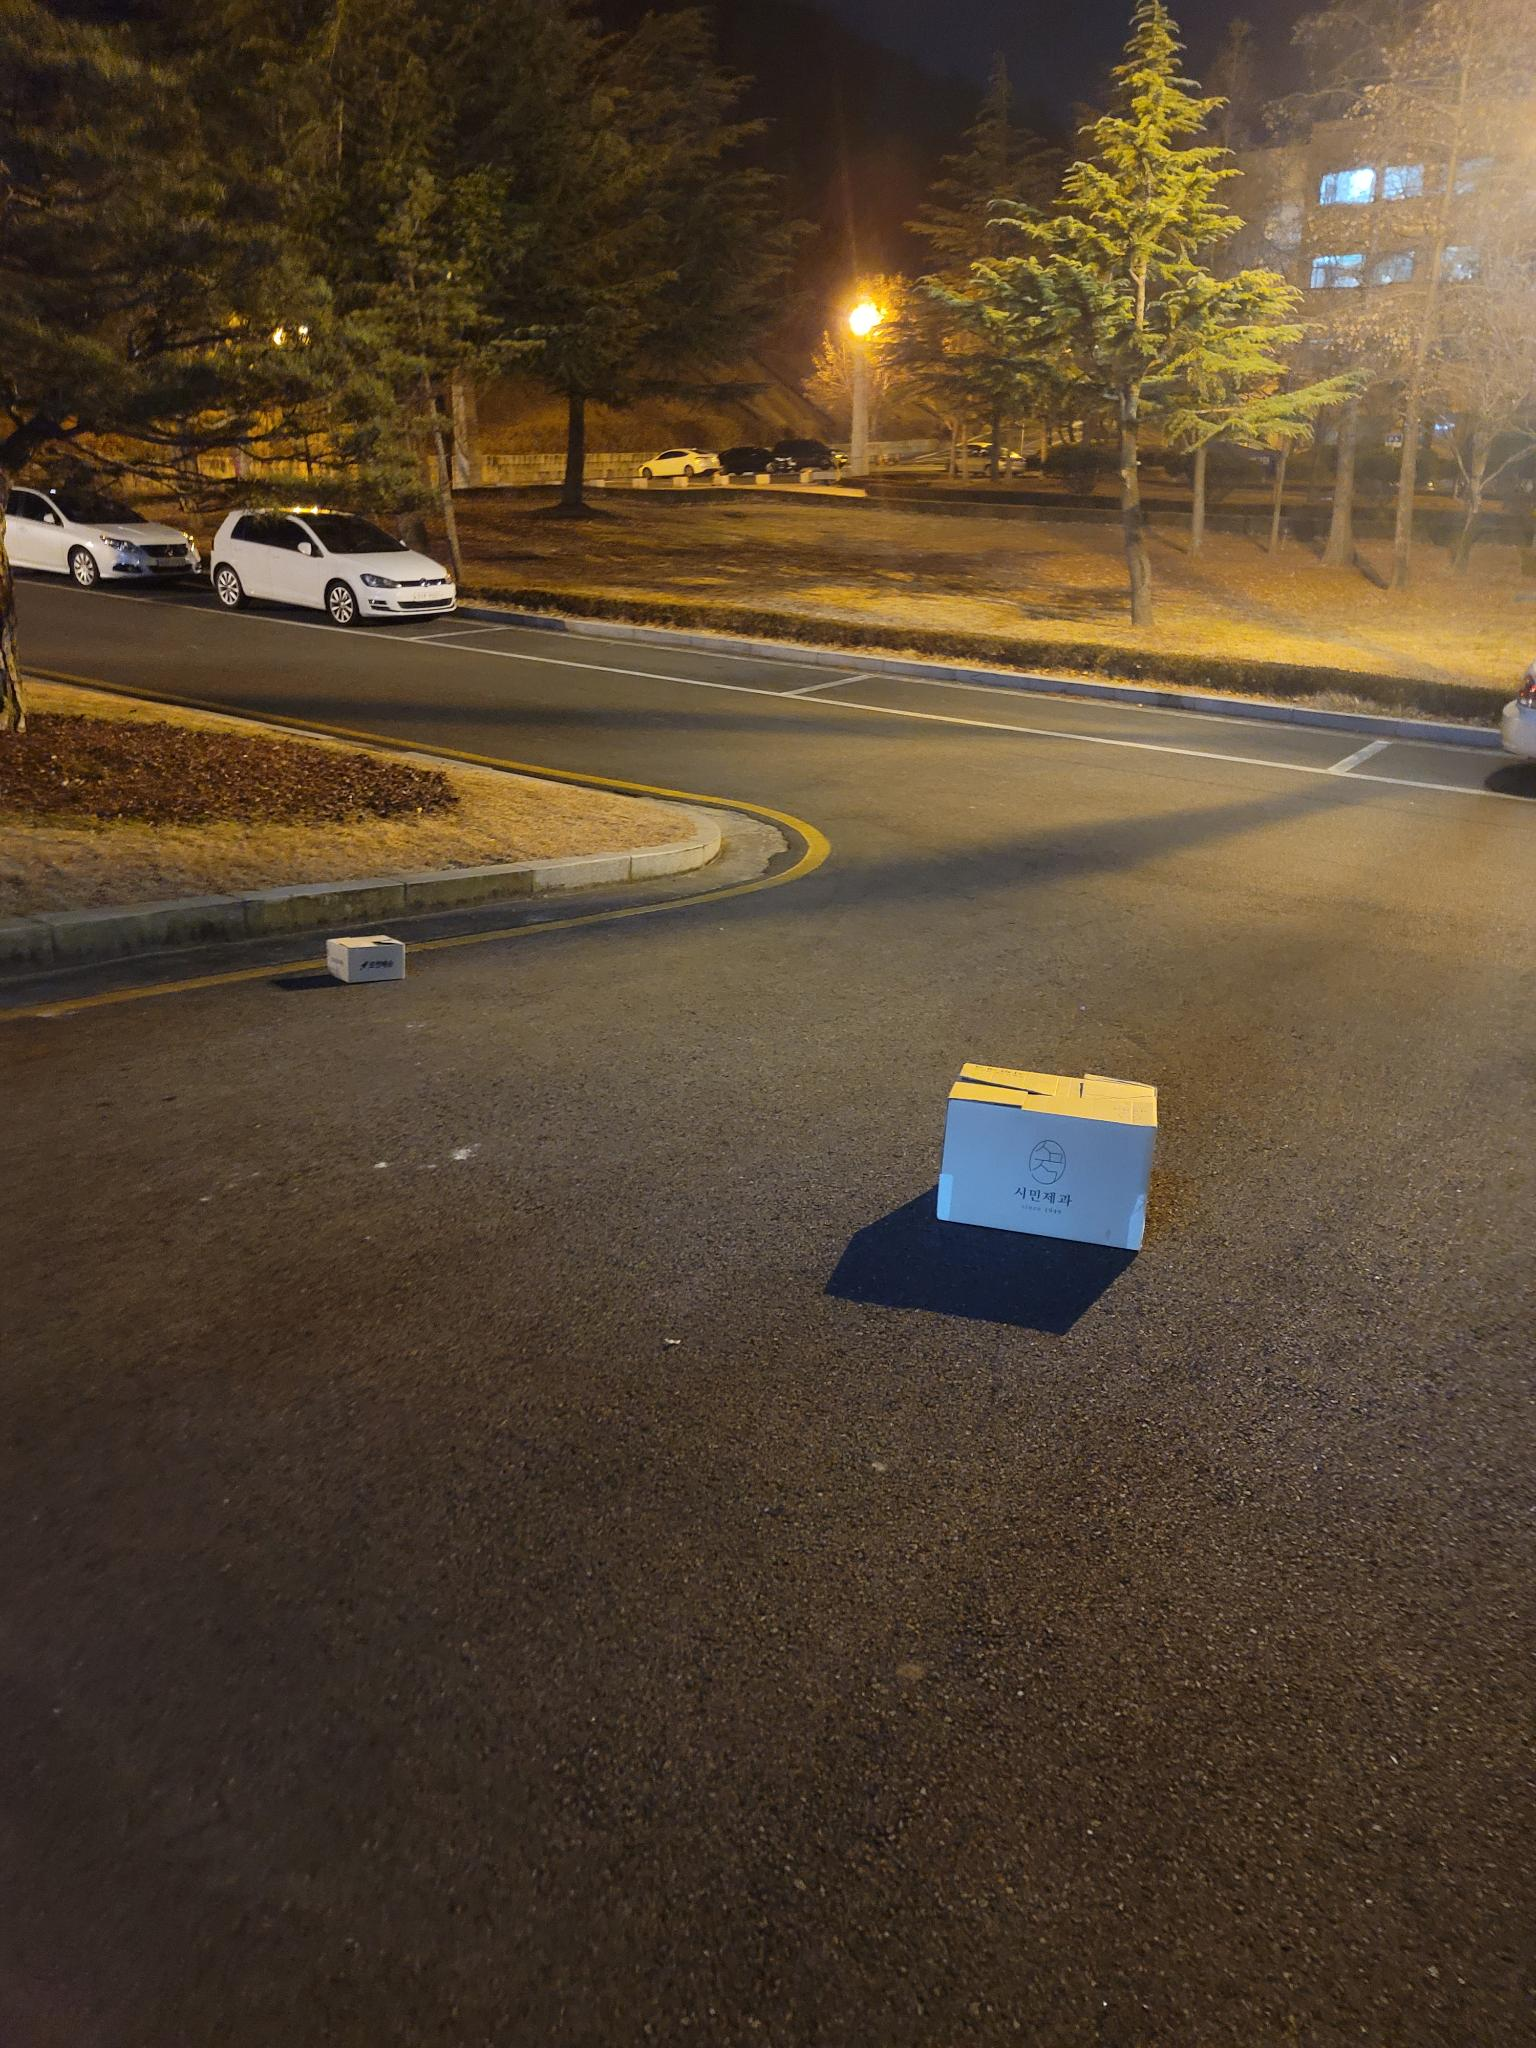Box: (934, 1042, 1173, 1272), (316, 911, 419, 990)
